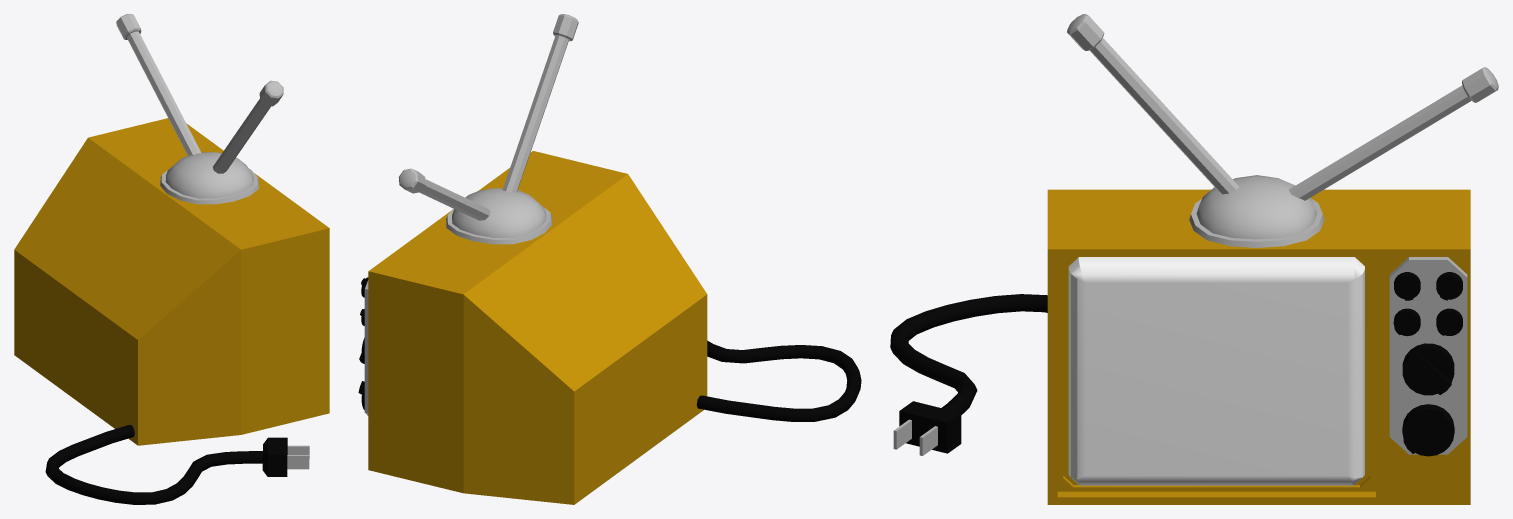
3 renders of one model, left to right at view 1: azimuth 30°, elevation 25°; view 2: azimuth 150°, elevation 25°; view 3: azimuth 270°, elevation 25°, orthographic. The views are drawn at different scales.
Visible parts, largest first — view 1: polySurface4; view 2: polySurface4; view 3: polySurface4.
Part boxes in pixels (bbox=[...]): polySurface4: bbox=[14, 14, 329, 504]; polySurface4: bbox=[358, 14, 861, 504]; polySurface4: bbox=[890, 14, 1498, 504].
Size of the model in its own units: 0.8683 by 0.92 by 1.1.
